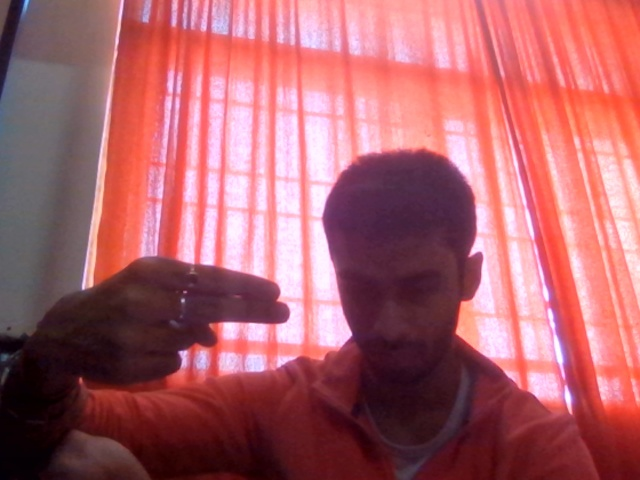H: (17, 235, 312, 400)
